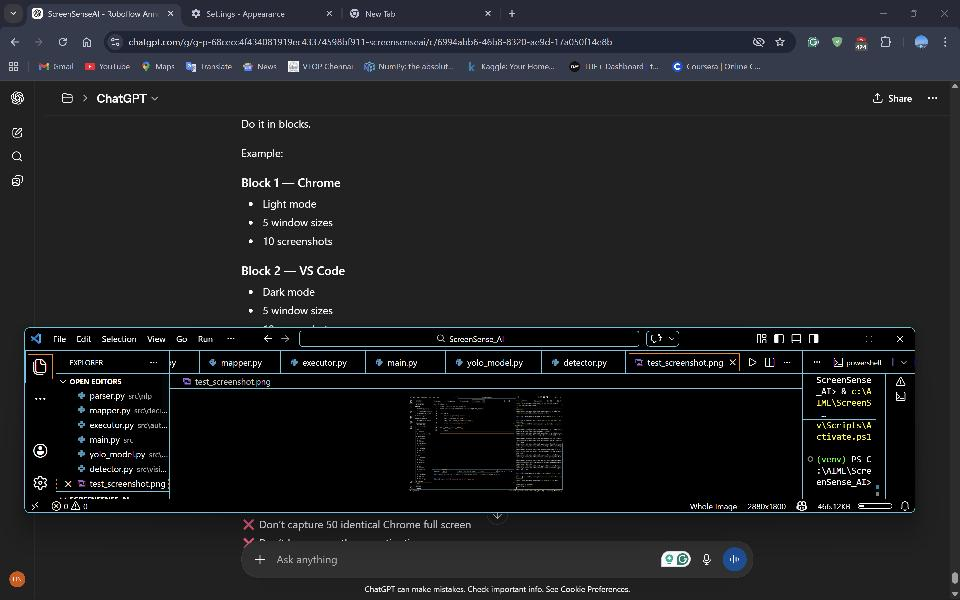close_button: (888, 330, 911, 348), (936, 4, 955, 23)
maximize_button: (902, 4, 926, 25), (858, 329, 881, 349)
minimize_button: (872, 3, 897, 23), (829, 331, 848, 348)
